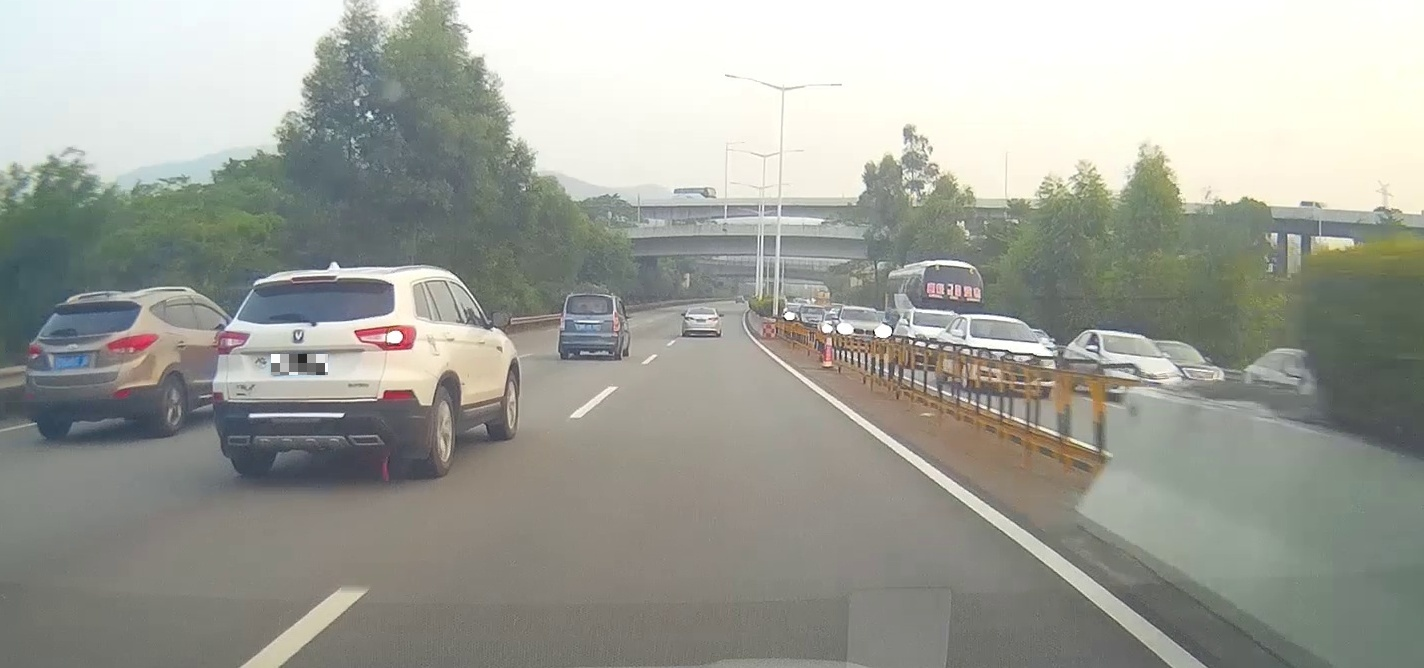L_light: (215, 330, 251, 355), (25, 342, 44, 359), (560, 313, 565, 331), (684, 316, 693, 320)
R_light: (354, 324, 418, 350), (105, 333, 159, 353), (614, 311, 620, 331), (709, 316, 718, 320)
T_light: (292, 276, 337, 283), (79, 302, 103, 307), (582, 310, 594, 313), (699, 309, 706, 311)
day-no: (22, 293, 165, 437), (557, 293, 622, 359), (682, 306, 721, 336)
day-right: (210, 267, 421, 475)
plate_1: (271, 354, 328, 375)
